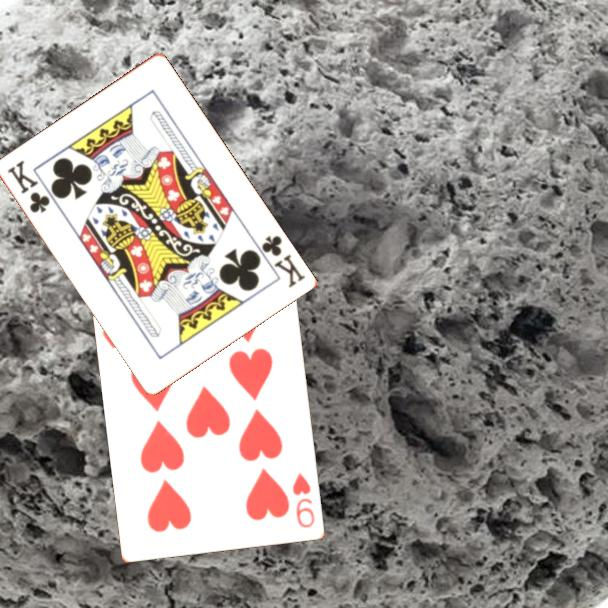c13: (257, 231, 308, 291), (3, 156, 53, 216)
h09: (289, 469, 318, 531)
